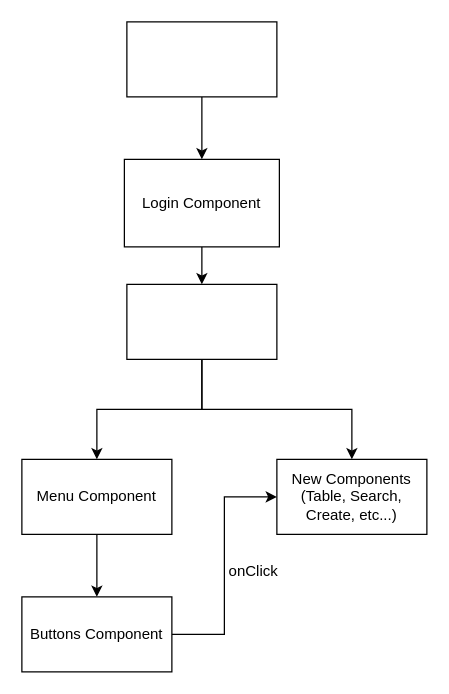
This 449x694 diagram has some shape labels left out. Here are the shapes that lost their labels. From the top down, the centre of each, then its label:
(201,59): App Component
(201,321): LoginUI Component
